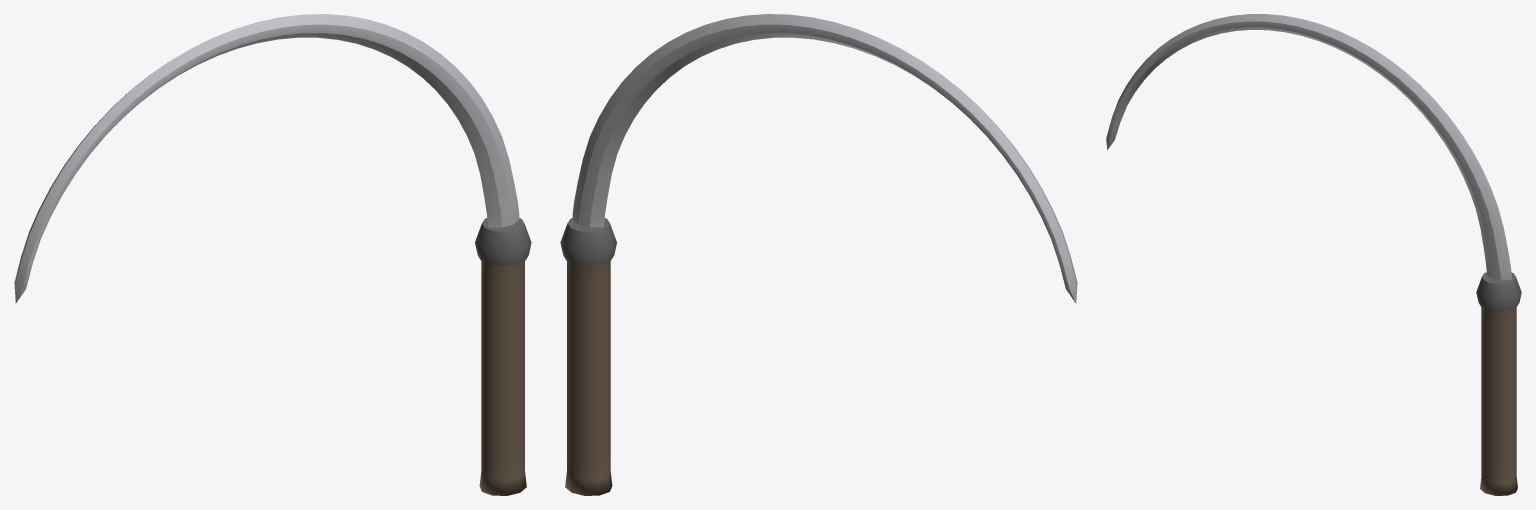
File: shotel.glb
The picture shows the model from 3 angles, left to right: view 1: azimuth 30°, elevation 25°; view 2: azimuth 150°, elevation 25°; view 3: azimuth 330°, elevation 25°; orthographic projection. The views are drawn at different scales.
Parts seen in each view (by area): view 1: shotel; view 2: shotel; view 3: shotel.
Part boxes in pixels (x1,y1,x2,y2): shotel: [14, 14, 531, 495]; shotel: [560, 14, 1077, 495]; shotel: [1106, 14, 1521, 495].
Bounding box in the file's own units: 0.8348 × 0.8164 × 0.08.
